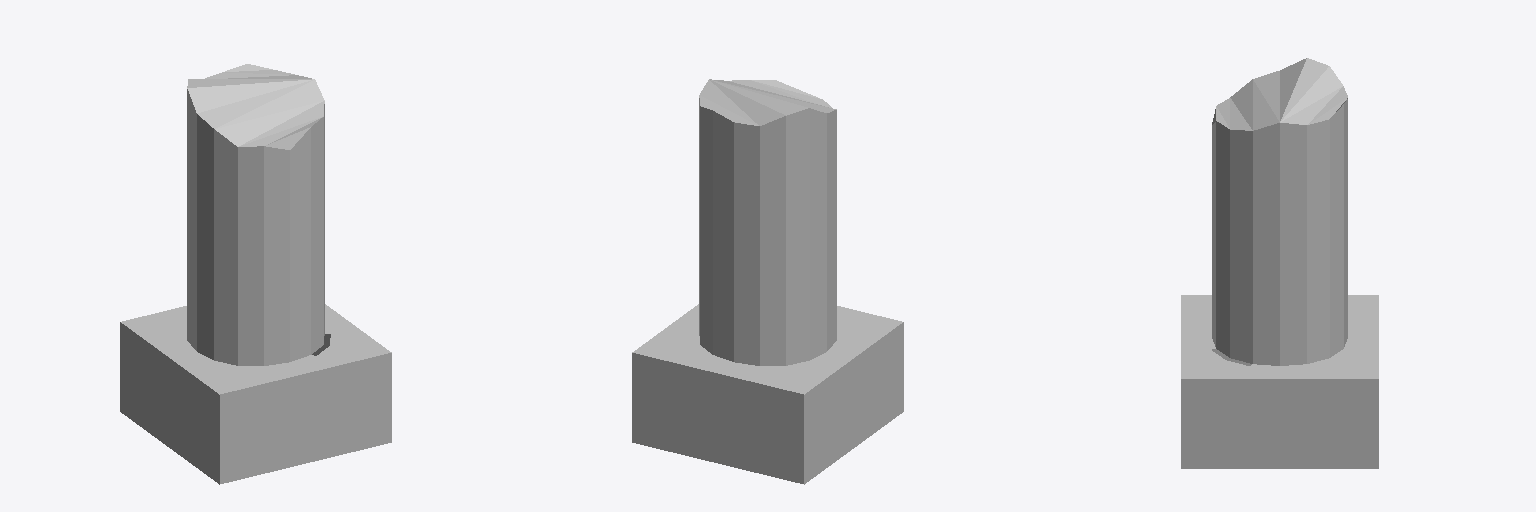
File: pillar3.obj
3 renders of one model, left to right at view 1: azimuth 30°, elevation 25°; view 2: azimuth 150°, elevation 25°; view 3: azimuth 270°, elevation 25°, orthographic.
Parts seen in each view (by area): view 1: pillar.003_Cube.005; view 2: pillar.003_Cube.005; view 3: pillar.003_Cube.005.
Boxes of the visible parts, box(x1,y1,x2,y2) form: pillar.003_Cube.005: box(120, 64, 391, 484); pillar.003_Cube.005: box(632, 79, 903, 484); pillar.003_Cube.005: box(1181, 58, 1378, 468).
Bounding box in the file's own units: 4 × 7.61 × 4.